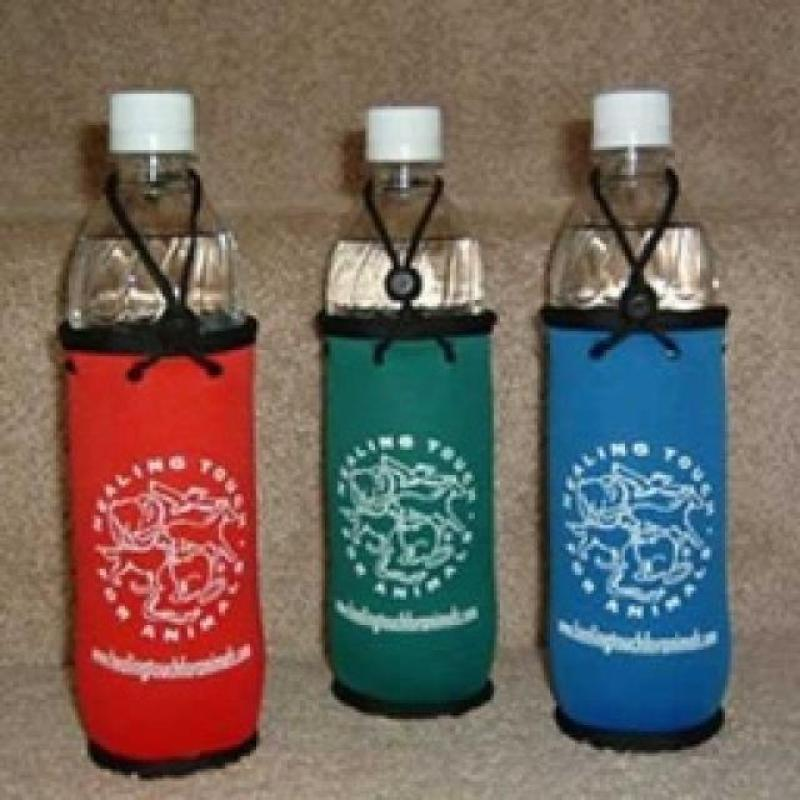botella: (545, 90, 743, 325), (57, 93, 245, 338), (316, 99, 490, 311)
